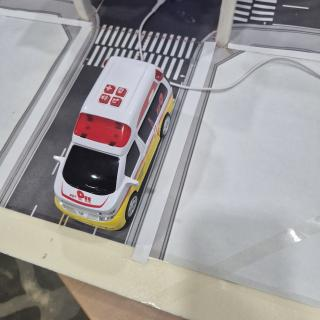Ambulance: (54, 57, 173, 230)
